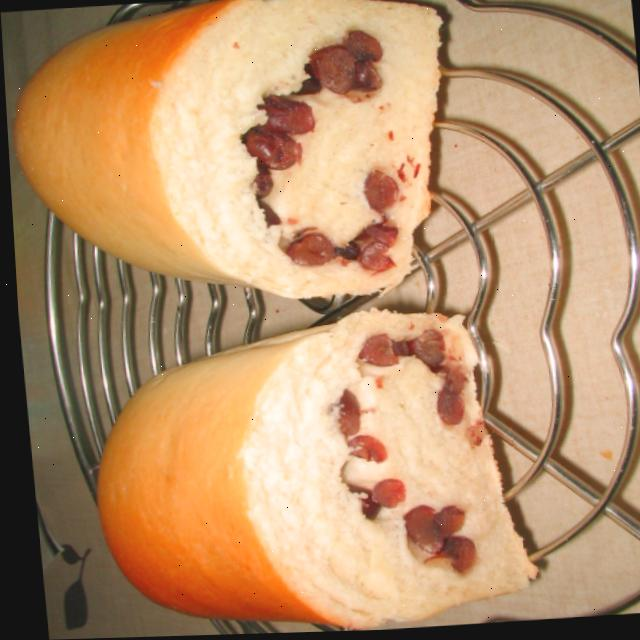面包点心: (12, 0, 518, 640)
